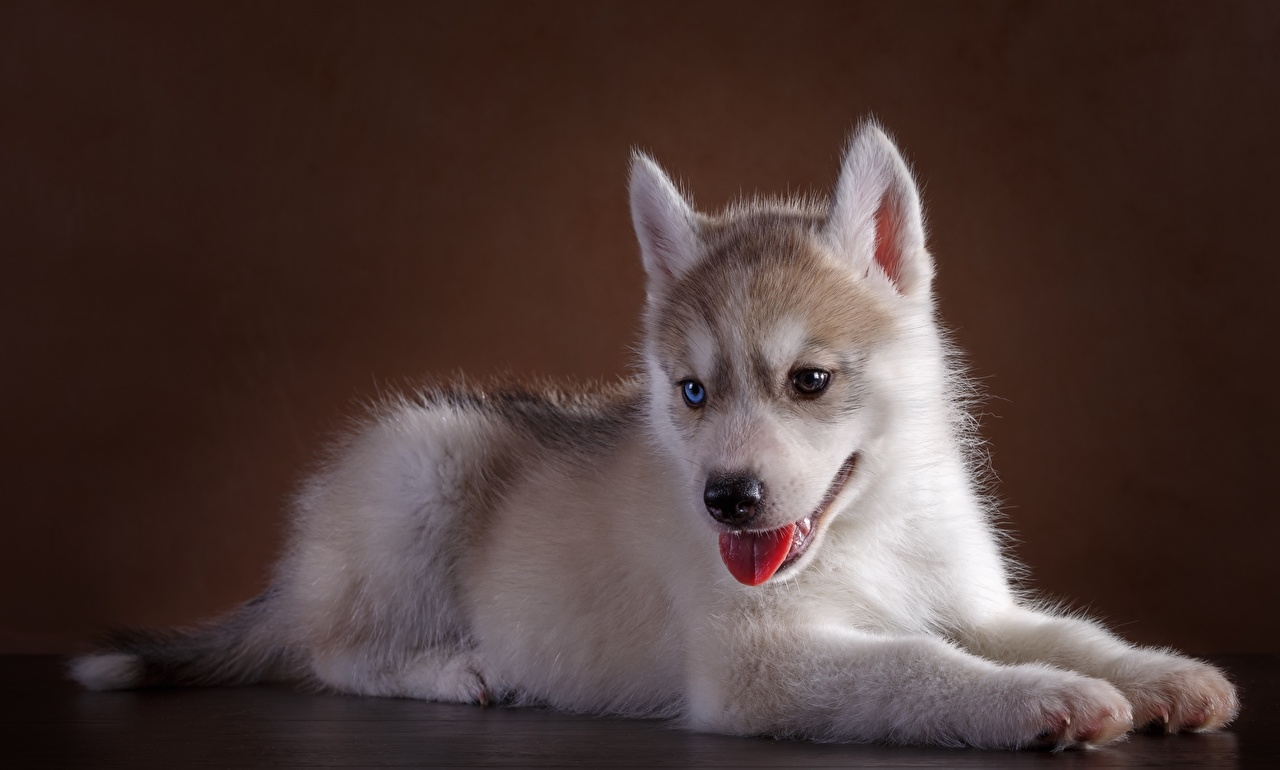husky: (584, 83, 981, 620)
